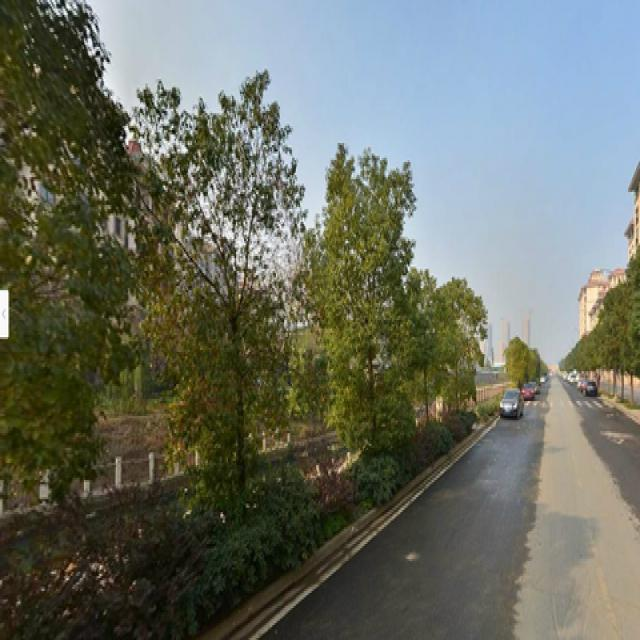cinn: (185, 118, 287, 518), (323, 164, 400, 450)
